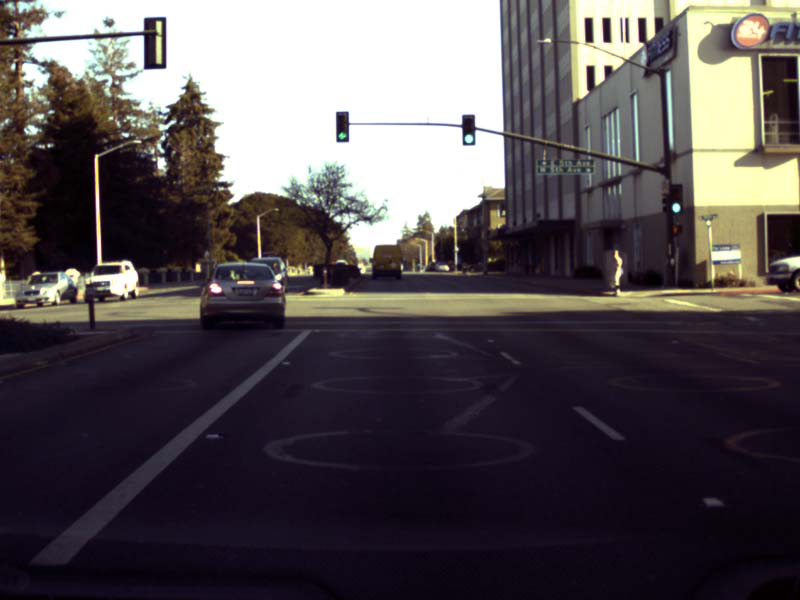Green: (668, 184, 683, 214), (335, 112, 348, 142), (462, 115, 474, 144)
